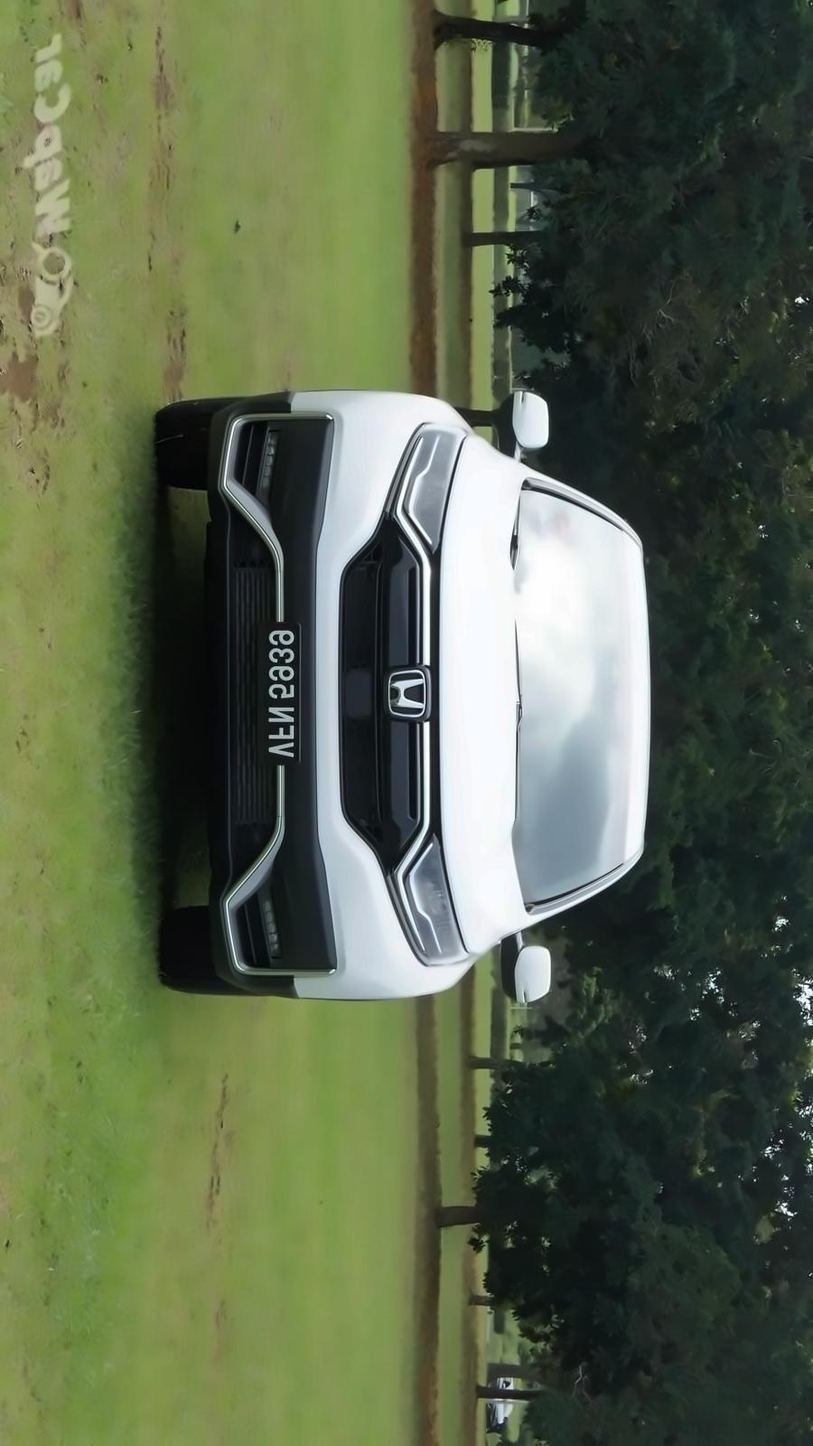Car hood: (437, 437, 533, 958)
Front bumper: (197, 387, 441, 1001)
Headlight - -L-: (383, 827, 467, 970)
Headlight - -R-: (381, 423, 465, 554)
Side mirror - -L-: (499, 929, 554, 1006)
Side mirror - -R-: (488, 392, 559, 467)
